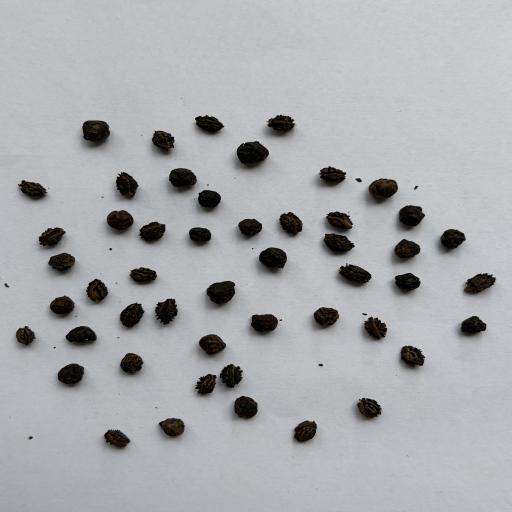Black_pepper: (452, 309, 502, 349), (222, 394, 272, 428), (152, 410, 199, 444), (54, 358, 100, 392), (306, 299, 346, 334), (228, 138, 272, 168), (366, 174, 403, 206), (202, 276, 239, 308), (438, 220, 470, 254), (74, 120, 119, 144), (182, 224, 222, 251), (195, 330, 233, 358), (255, 244, 289, 274), (59, 324, 101, 347), (114, 350, 151, 376), (394, 266, 426, 296), (162, 166, 199, 191), (250, 310, 280, 340), (102, 206, 136, 232), (390, 236, 424, 262), (396, 204, 430, 230), (46, 290, 80, 316), (41, 249, 74, 275), (234, 214, 271, 237), (194, 188, 223, 212)
papaya_seed: (284, 412, 334, 461), (346, 394, 396, 433), (455, 266, 512, 300), (107, 165, 153, 201), (2, 174, 53, 202), (359, 306, 396, 344), (90, 421, 132, 453), (271, 204, 305, 240), (149, 126, 183, 158), (395, 339, 428, 371), (218, 360, 246, 394), (79, 277, 115, 303), (339, 261, 374, 287), (9, 322, 41, 350), (322, 230, 356, 256), (264, 112, 300, 136), (128, 264, 164, 288), (115, 302, 147, 329), (134, 220, 167, 246), (317, 163, 351, 188), (188, 112, 226, 134), (155, 294, 180, 325), (324, 208, 356, 230), (34, 224, 68, 244), (191, 372, 216, 396)
